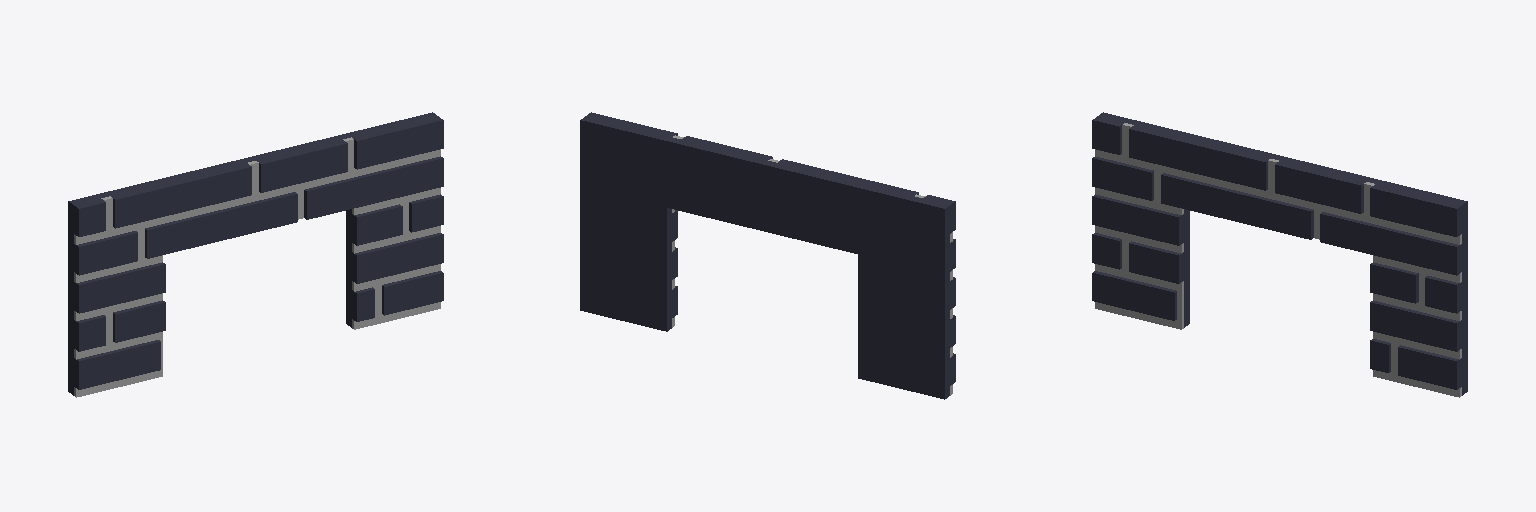
The picture shows the model from 3 angles: view 1: azimuth 30°, elevation 25°; view 2: azimuth 150°, elevation 25°; view 3: azimuth 330°, elevation 25°; orthographic projection.
Parts seen in each view (by area): view 1: object 1; view 2: object 1; view 3: object 1.
Boxes of the visible parts, <box> form: object 1: <box>68,112,443,397</box>; object 1: <box>580,112,955,399</box>; object 1: <box>1092,112,1467,397</box>.
Bounding box in the file's own units: 8 × 4 × 0.4.
1 materials, 1 textured.